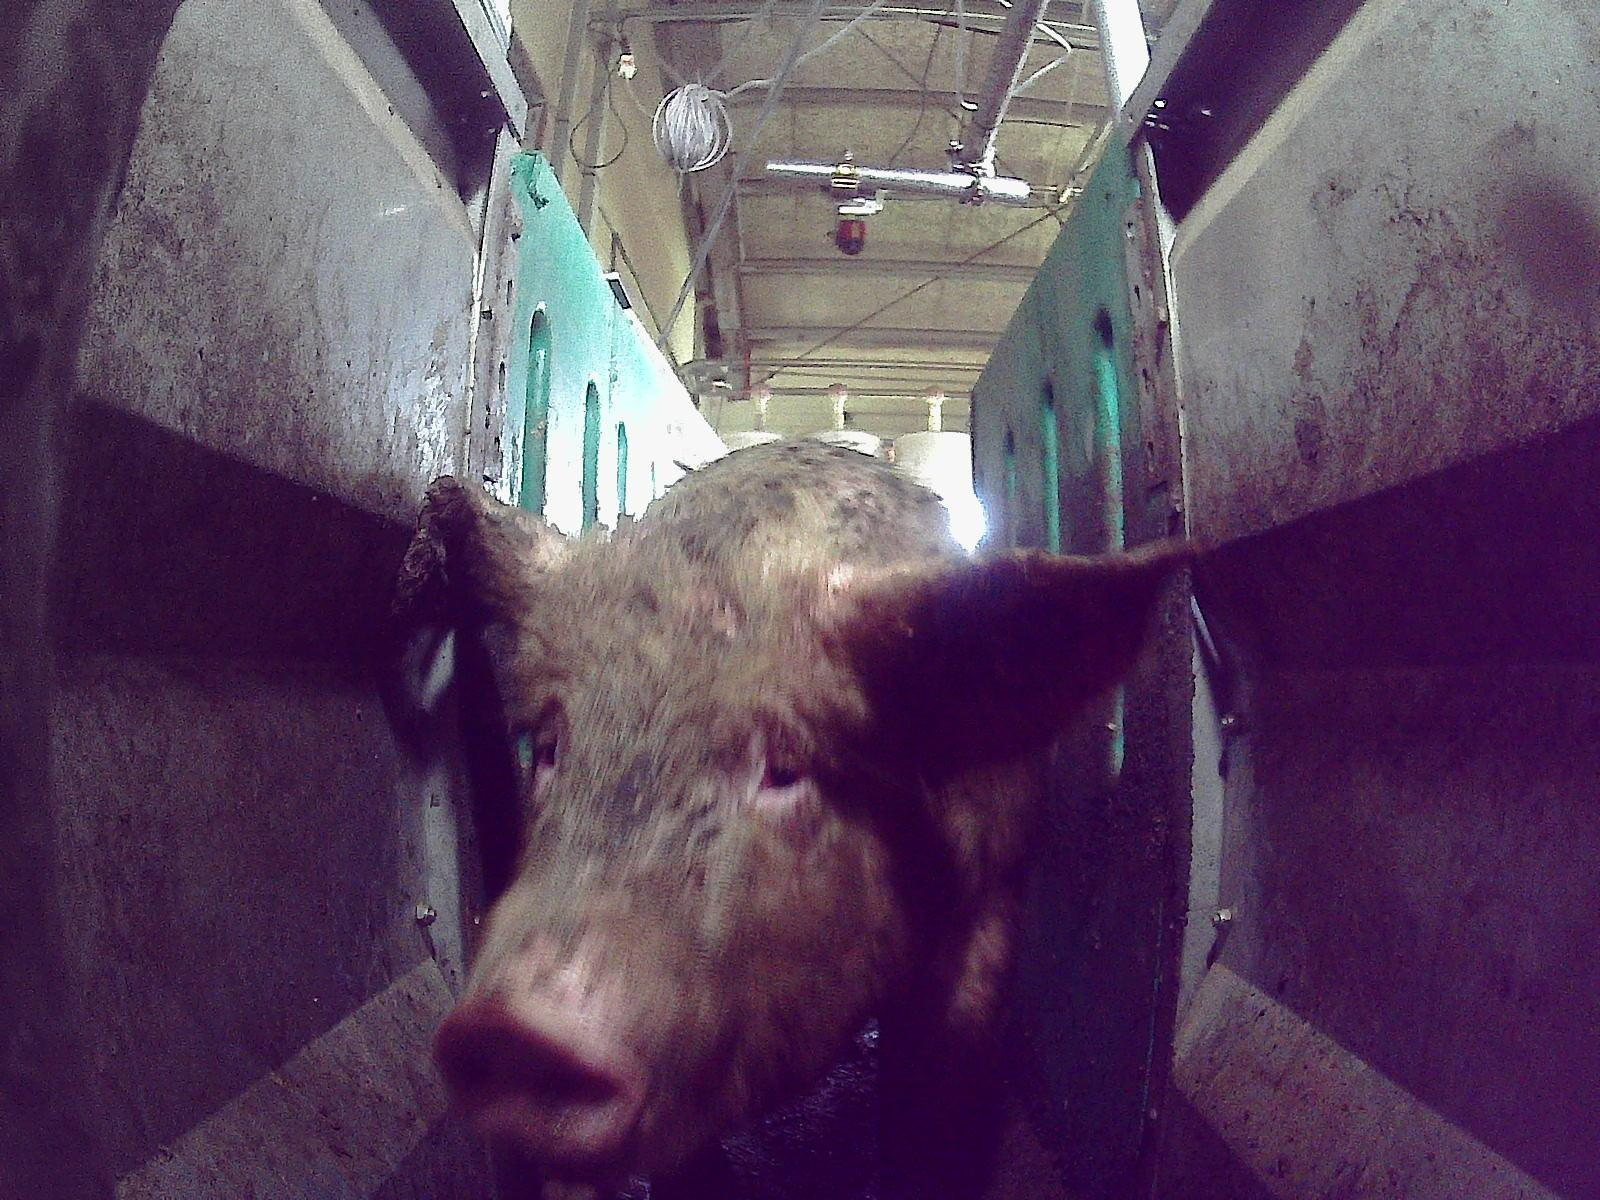Face: (441, 556, 926, 1186)
